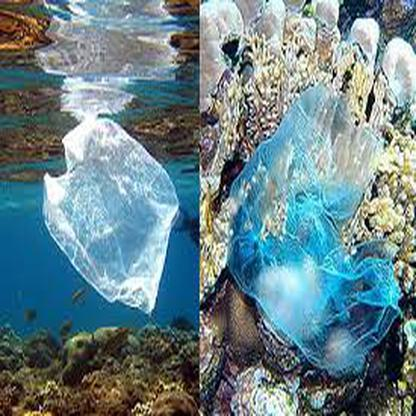plastic bag: (224, 80, 396, 377), (41, 117, 182, 314)
